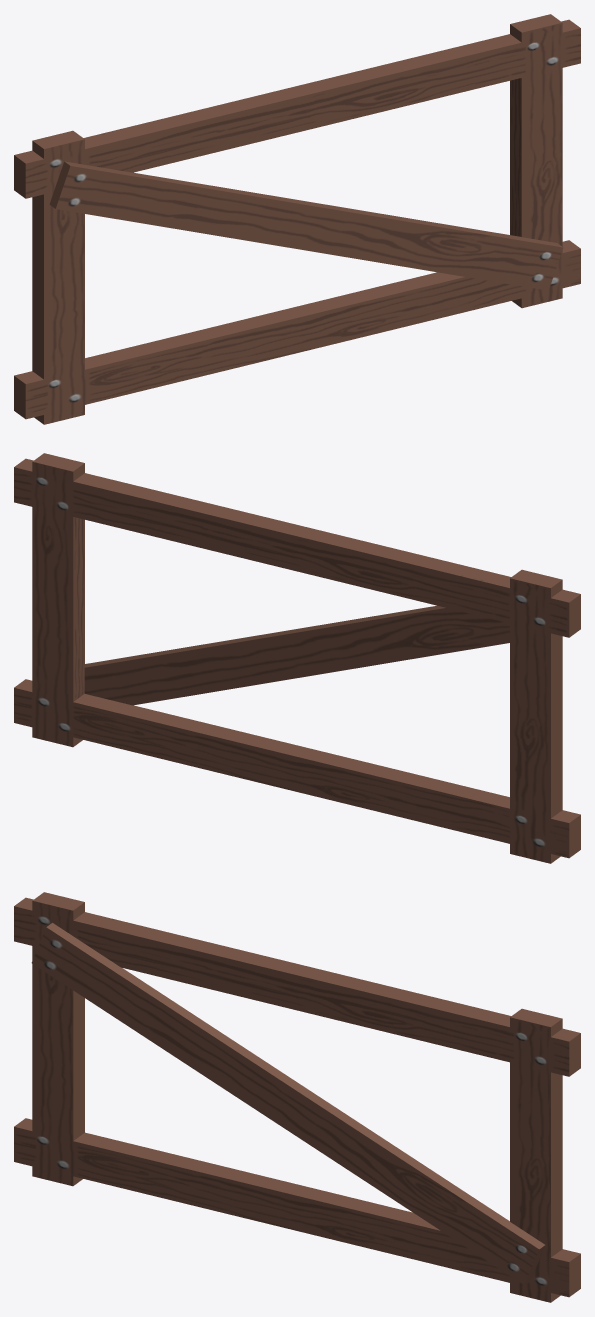
File: Fence.FBX
The picture shows the model from 3 angles, top to bottom: view 1: azimuth 30°, elevation 25°; view 2: azimuth 150°, elevation 25°; view 3: azimuth 330°, elevation 25°; orthographic projection.
Visible parts, largest first — view 1: Box002; view 2: Box002; view 3: Box002.
Boxes of the visible parts, x1=… form: Box002: x1=14, y1=14, x2=580, y2=424; Box002: x1=14, y1=453, x2=580, y2=863; Box002: x1=14, y1=892, x2=580, y2=1302.
Bounding box in the file's own units: 4.22 × 2 × 0.236.
